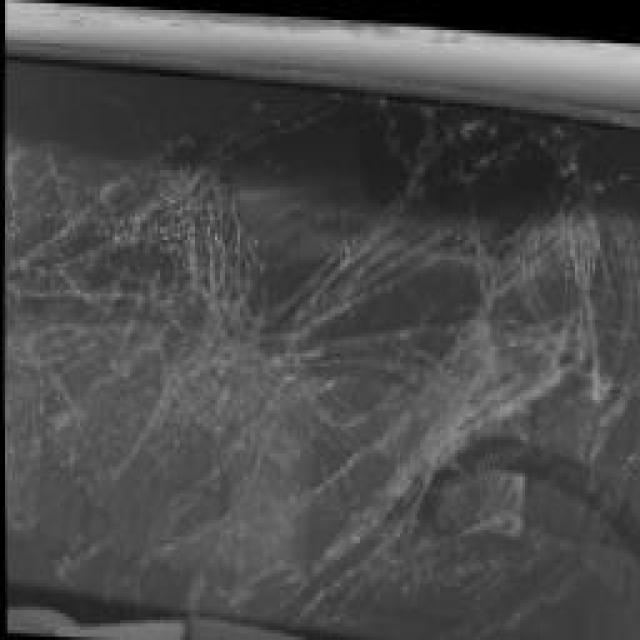Windshield: (0, 47, 640, 640)
